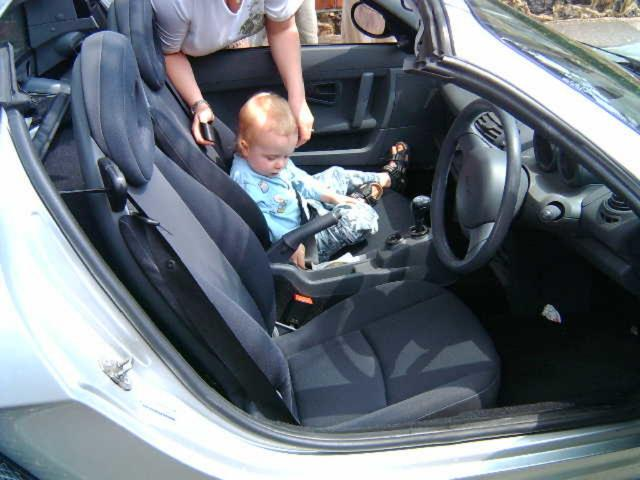Seatbelt: (55, 188, 302, 423), (202, 111, 322, 270)
